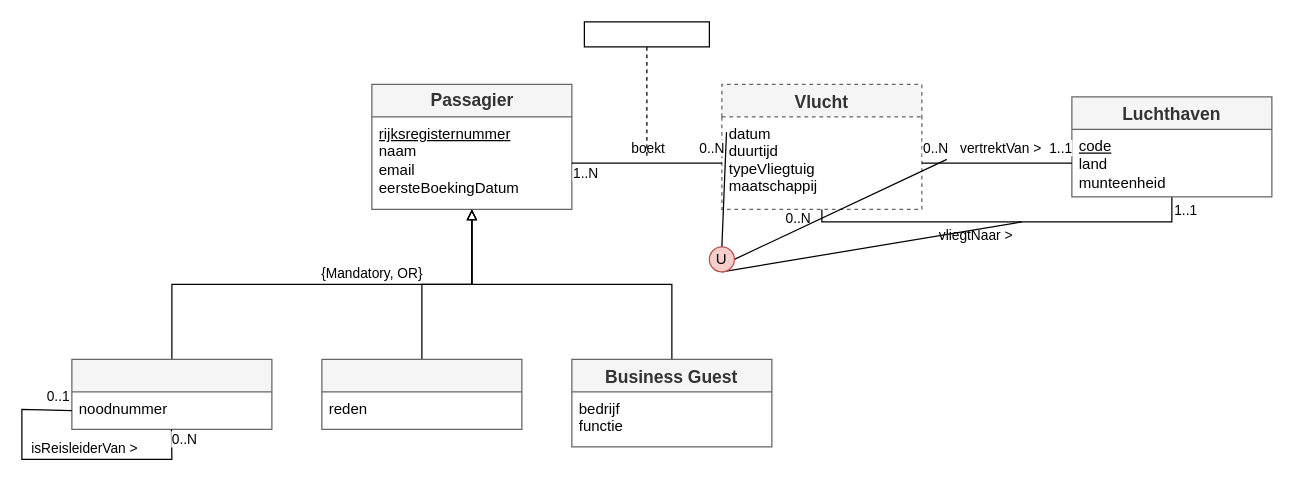
Some shapes in this 1294 by 483 pixel diagram are drawn without their labels. The shapes that lost their labels are listed below. From the top down, each one's box as (x1, y1, x2, y2) in pixels, then its label:
(583, 21, 709, 47): zitplaats
(71, 358, 272, 429): Individuele Passagier
(321, 358, 522, 429): Prioritaire Passagier
